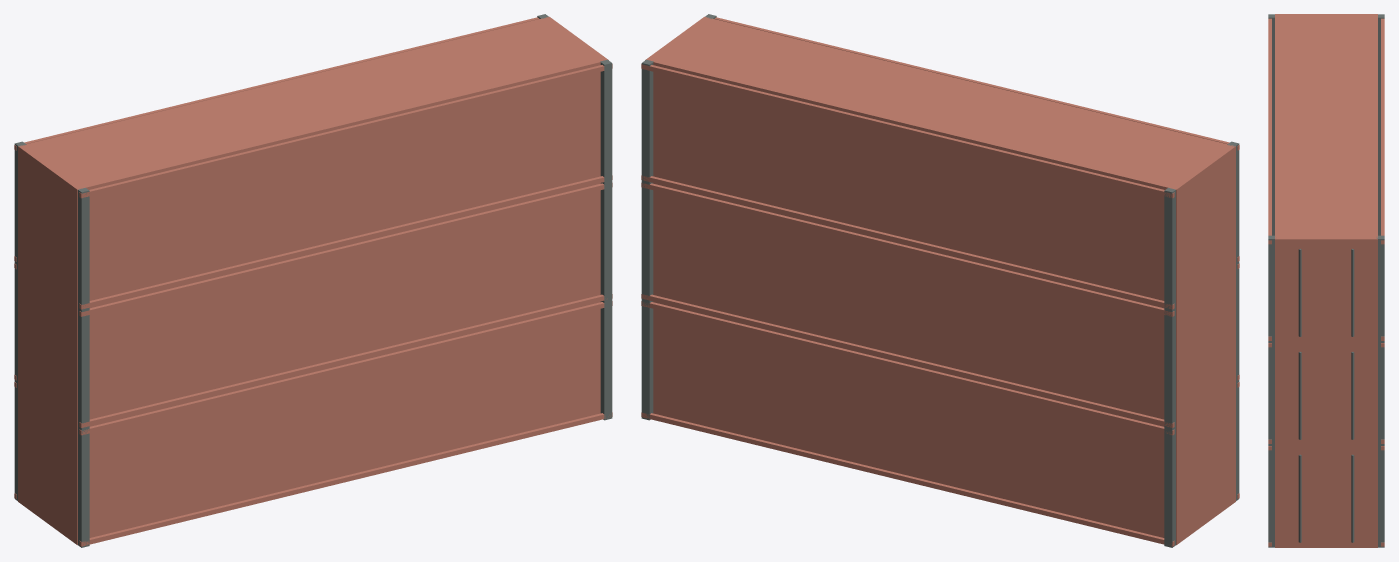
Rendered from container-stack-0.glb.
3 views of the same model, side by side, from view 1: azimuth 30°, elevation 25°; view 2: azimuth 150°, elevation 25°; view 3: azimuth 270°, elevation 25° (orthographic). The views are drawn at different scales.
Size of the model in its own units: 12.36 by 7.8 by 2.66.
